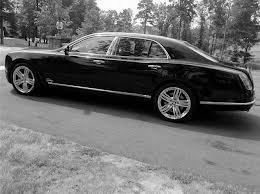car: (6, 31, 256, 128)
